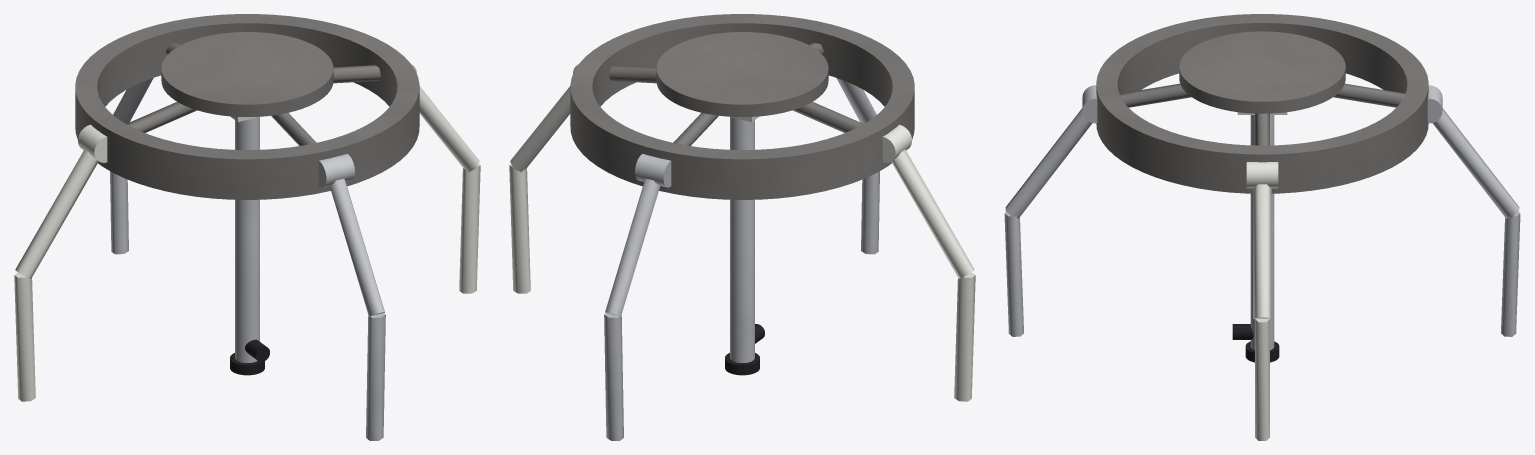
The model's file is station16_capture_claw_s.glb.
The picture shows the model from 3 angles, left to right: view 1: azimuth 30°, elevation 25°; view 2: azimuth 150°, elevation 25°; view 3: azimuth 270°, elevation 25°; orthographic projection. The views are drawn at different scales.
Visible parts, largest first — view 1: ring, top_plate, finger_3, finger_4, boom, finger_1, finger_2, boom_tip; view 2: ring, top_plate, finger_3, finger_2, boom, finger_1, finger_4, boom_tip; view 3: ring, top_plate, finger_1, finger_2, finger_4, boom, boom_tip.
Boxes of the visible parts, box(x1,y1,x2,y2) form: ring: box(75, 14, 419, 199); top_plate: box(161, 32, 333, 116); finger_3: box(14, 124, 107, 401); finger_4: box(318, 153, 385, 440); boom: box(235, 117, 259, 362); finger_1: box(411, 64, 480, 293); finger_2: box(110, 78, 153, 254); boom_tip: box(230, 339, 269, 375); ring: box(570, 14, 914, 199); top_plate: box(656, 32, 828, 116); finger_3: box(882, 124, 975, 401); finger_2: box(604, 153, 671, 440); boom: box(730, 117, 754, 362); finger_1: box(509, 64, 578, 293); finger_4: box(836, 78, 879, 254); boom_tip: box(725, 324, 764, 375); ring: box(1096, 14, 1428, 193); top_plate: box(1179, 31, 1345, 113); finger_1: box(1246, 162, 1278, 440); finger_2: box(1427, 85, 1520, 336); finger_4: box(1004, 85, 1097, 336); boom: box(1250, 115, 1274, 350); boom_tip: box(1232, 324, 1279, 362).
Bounding box in the file's own units: 1.94 × 1.2 × 1.94.
5 materials, 3 textured.
